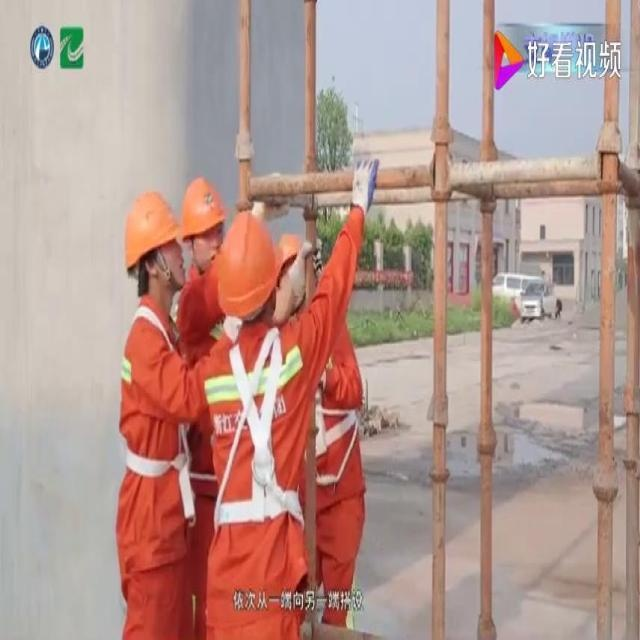Arnes_seguridad: (209, 315, 310, 543), (114, 298, 196, 493)
